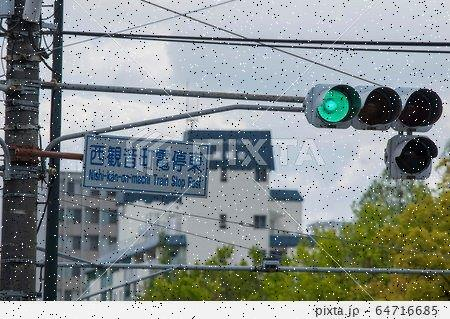cars: (310, 84, 444, 132)
